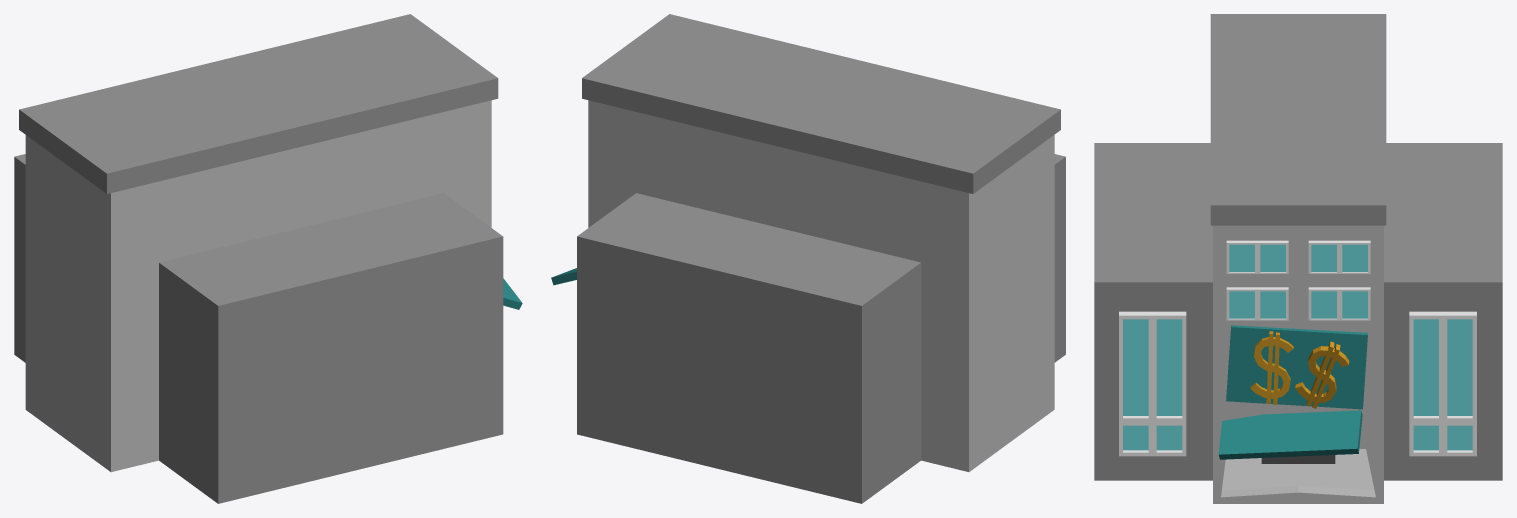
The model's file is bankbroken.fbx.
3 renders of one model, left to right at view 1: azimuth 30°, elevation 25°; view 2: azimuth 150°, elevation 25°; view 3: azimuth 270°, elevation 25°, orthographic.
Parts seen in each view (by area): view 1: Plane.001; view 2: Plane.001; view 3: Plane.001.
Boxes of the visible parts, box(x1,y1,x2,y2) form: Plane.001: box(14, 14, 522, 503); Plane.001: box(551, 14, 1065, 503); Plane.001: box(1094, 14, 1502, 503).
Bounding box in the file's own units: 2451 × 1614 × 1984.
